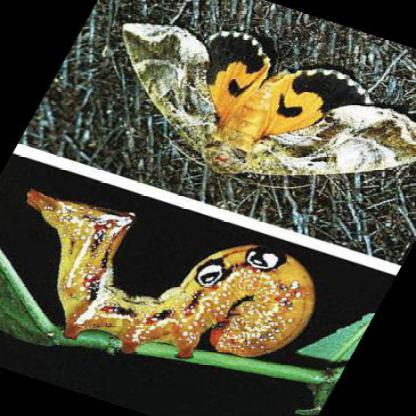fruit sucking moth: (123, 26, 414, 178)
